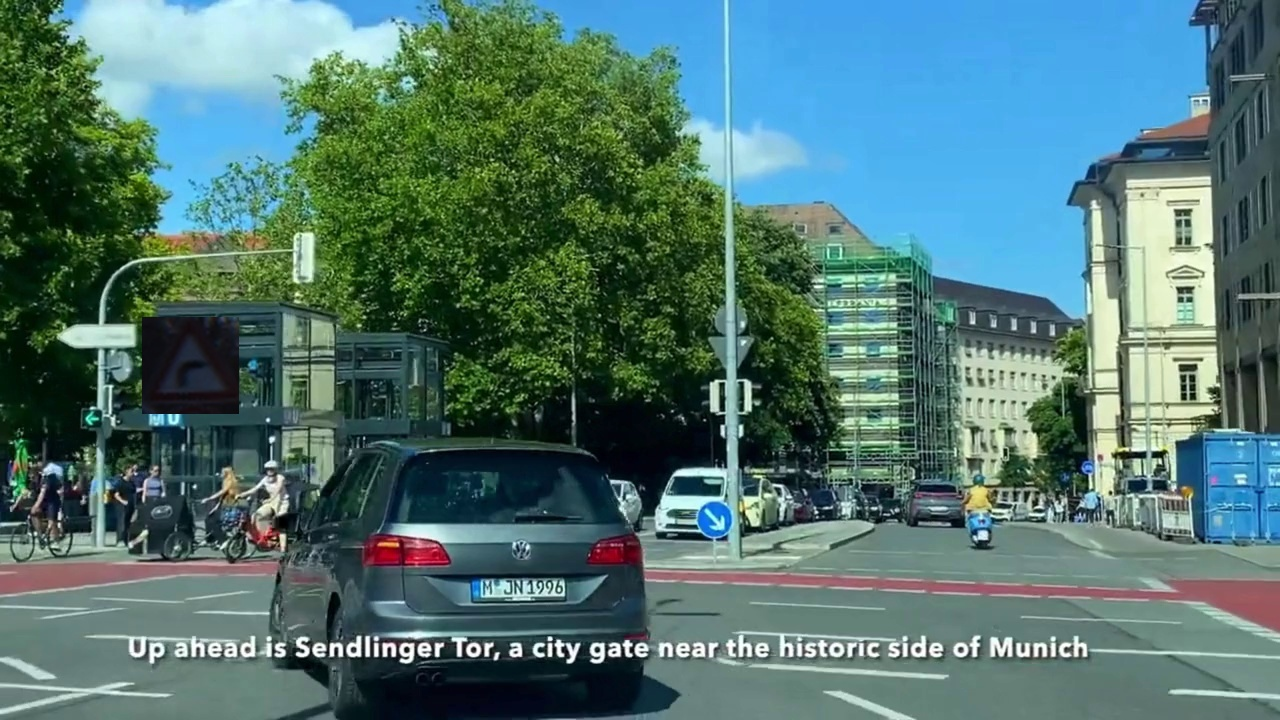Curve right: (142, 317, 239, 414)
